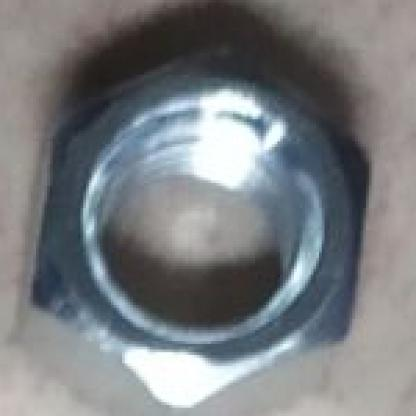FOD: (17, 39, 399, 410)
